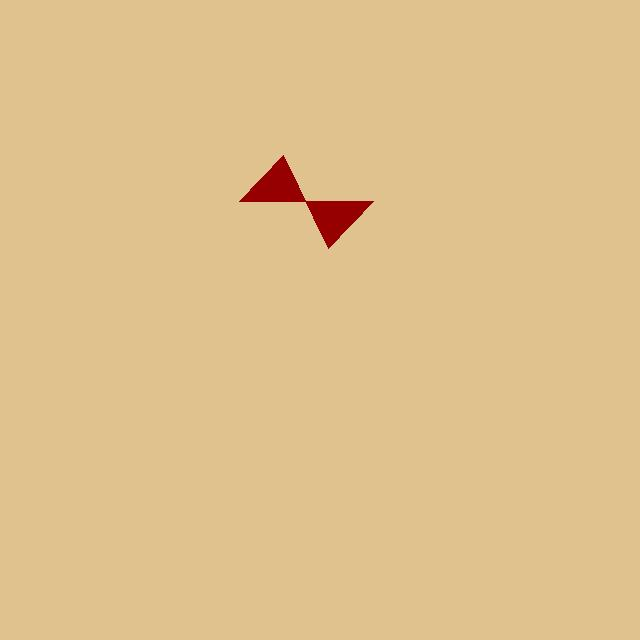laceration: (239, 155, 373, 248)
